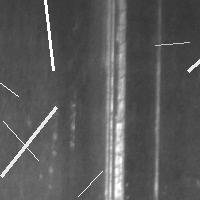scratches: (101, 1, 129, 199), (0, 102, 61, 181), (0, 116, 43, 165), (151, 28, 163, 199), (0, 38, 23, 101), (40, 0, 58, 75), (183, 1, 200, 76), (73, 166, 107, 200), (150, 37, 194, 50)
